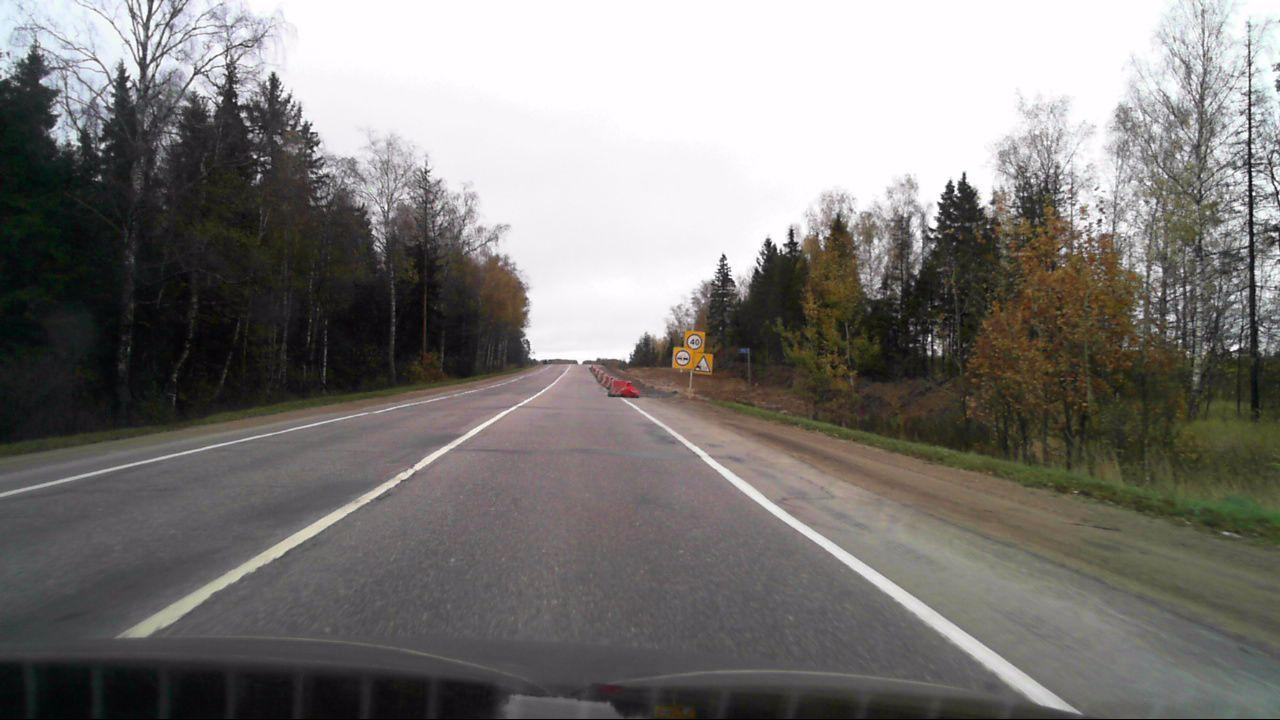1_18: (694, 354, 713, 373)
3_20: (674, 350, 692, 366)
3_24: (687, 333, 703, 349)
